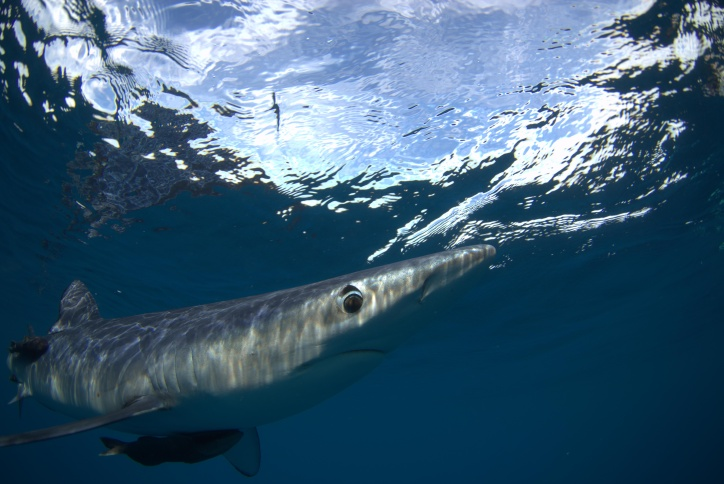Azul: (1, 205, 543, 483)
